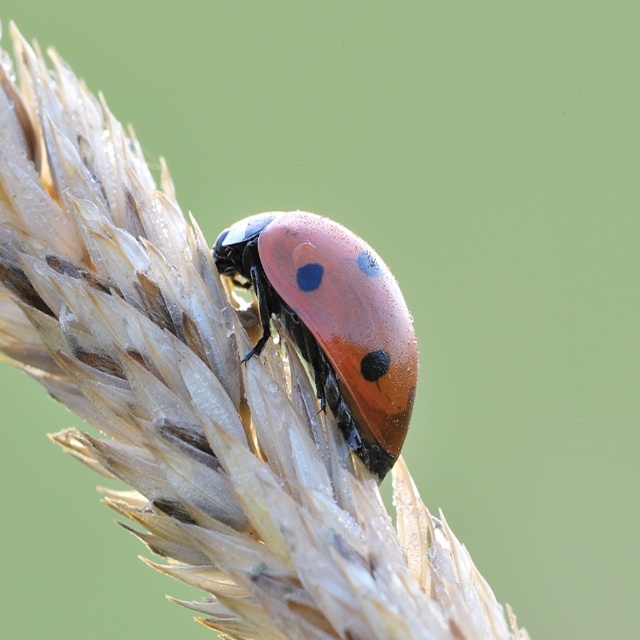Ladybug: (212, 210, 420, 476)
